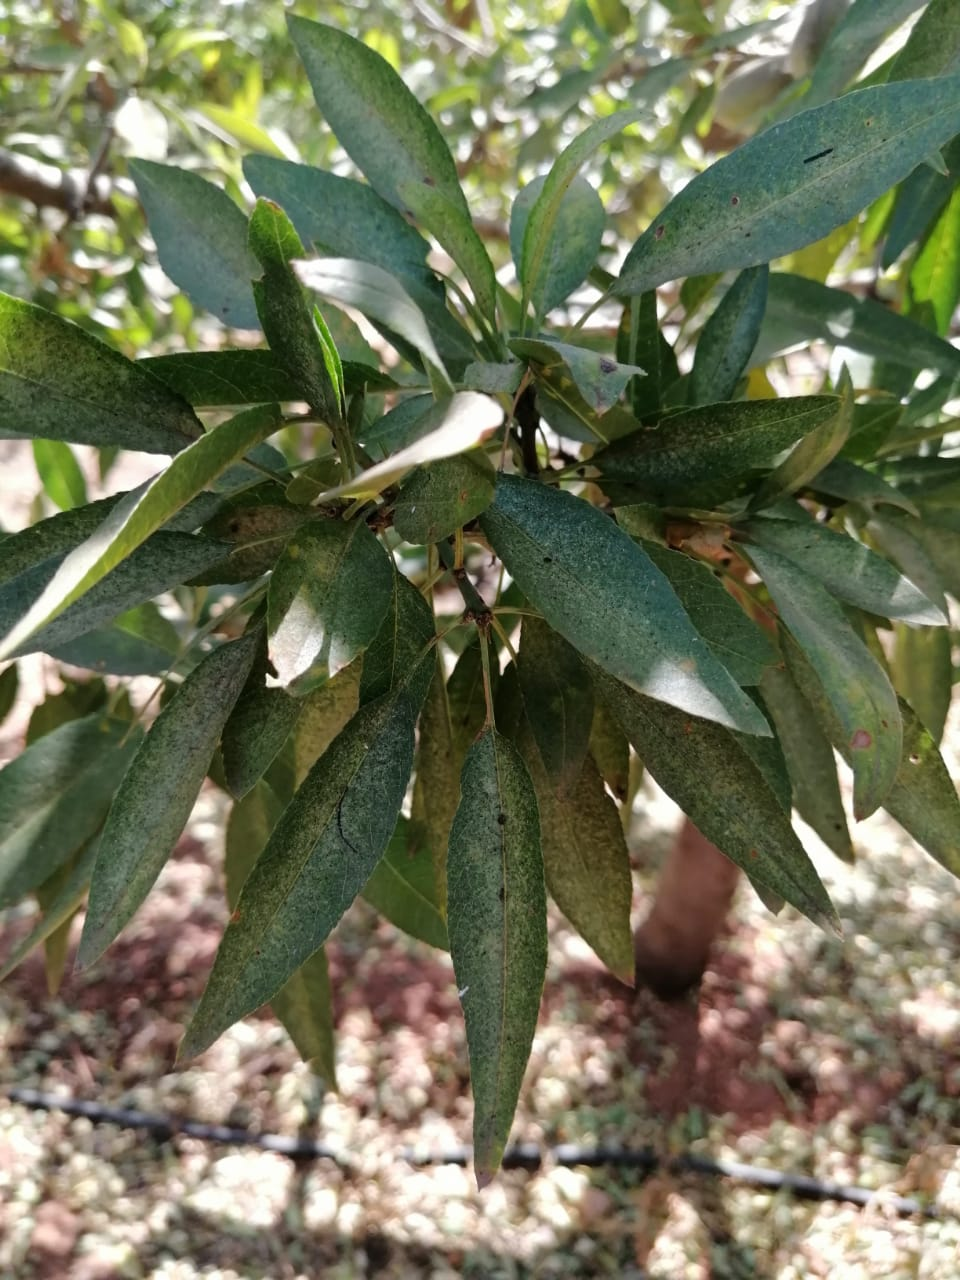acariens: (171, 690, 418, 1073), (606, 73, 960, 296), (483, 479, 778, 742), (282, 4, 499, 329), (71, 630, 263, 979), (446, 731, 551, 1192), (1, 291, 203, 453)
